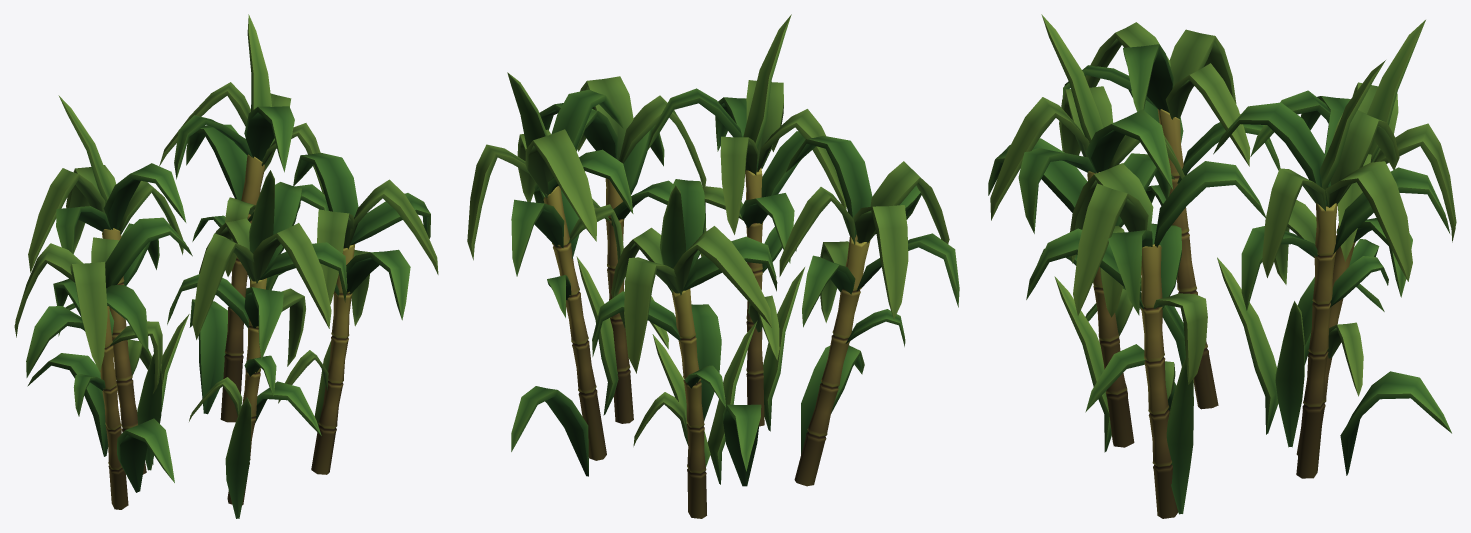
Rendered from SM_Plant_SugarCane_Lv4.fbx.
3 views of the same model, side by side, from view 1: azimuth 30°, elevation 25°; view 2: azimuth 150°, elevation 25°; view 3: azimuth 270°, elevation 25° (orthographic). The views are drawn at different scales.
Parts seen in each view (by area): view 1: SM_Plant_SugarCane_Lv4; view 2: SM_Plant_SugarCane_Lv4; view 3: SM_Plant_SugarCane_Lv4.
Part boxes in pixels (x1=…): SM_Plant_SugarCane_Lv4: x1=14, y1=14, x2=438, y2=518; SM_Plant_SugarCane_Lv4: x1=467, y1=14, x2=959, y2=518; SM_Plant_SugarCane_Lv4: x1=988, y1=14, x2=1456, y2=518.
Bounding box in the file's own units: 108 × 104 × 91.56.
